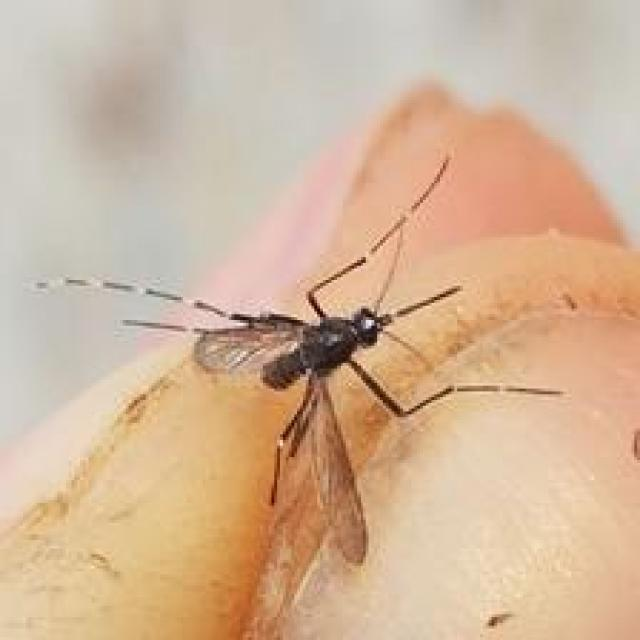Aedes albopictus: (31, 150, 566, 564)
